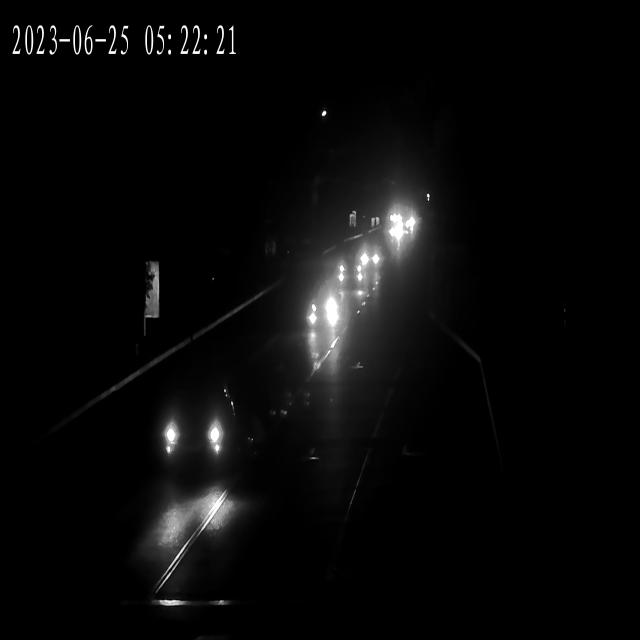Car: (163, 376, 238, 486), (304, 279, 344, 341), (340, 243, 362, 290), (359, 242, 384, 278), (403, 213, 418, 240), (388, 208, 402, 233), (389, 226, 401, 246)
